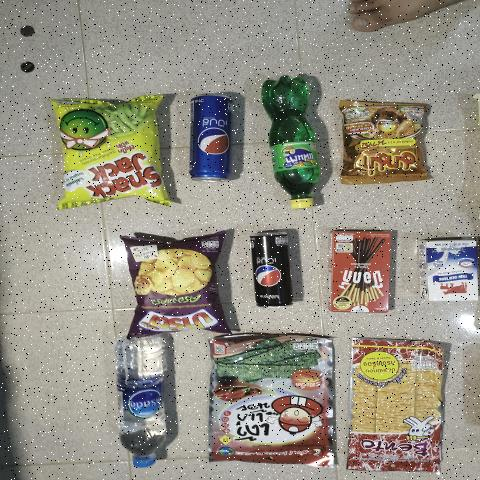bento_red: (350, 338, 440, 473)
crystal: (116, 344, 173, 472)
fanta_green: (267, 66, 330, 212)
mama: (339, 104, 432, 181)
party_purple: (130, 246, 219, 332)
pepsi_black: (246, 222, 296, 308)
pepsi_blue: (186, 93, 234, 188)
pokki: (331, 233, 388, 312)
snack_jack: (60, 100, 169, 198)
taokaenoi: (218, 337, 340, 466)
thai_denmark: (416, 231, 477, 306)
